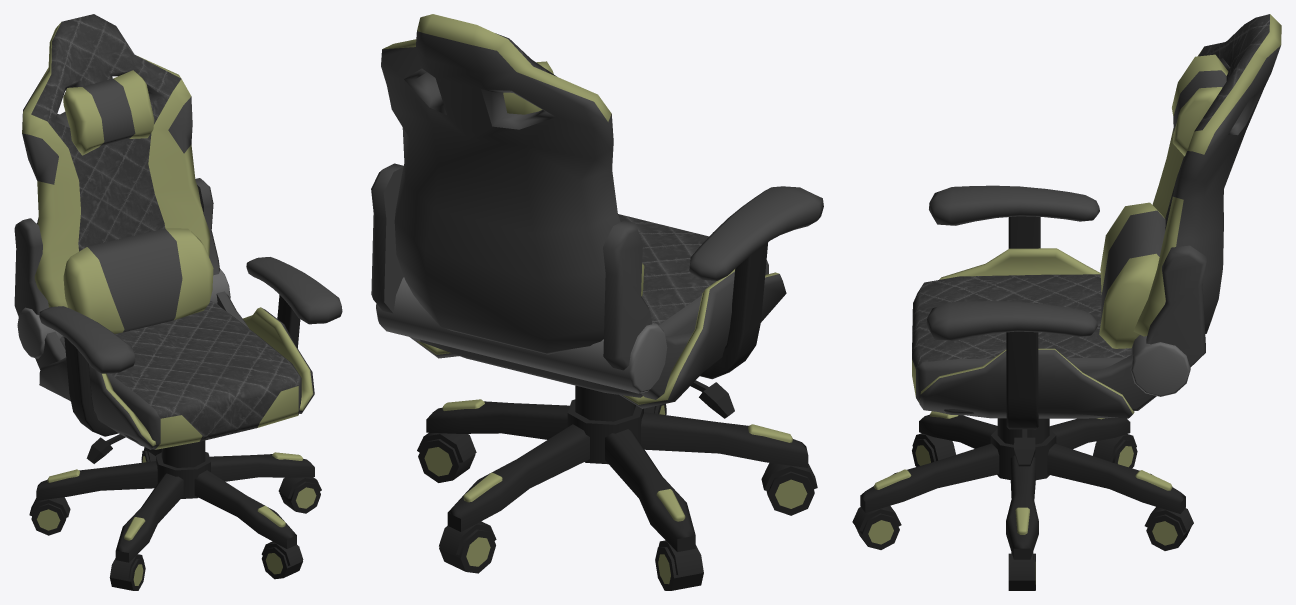
File: chair_032.fbx
3 views of the same model, side by side, from view 1: azimuth 30°, elevation 25°; view 2: azimuth 150°, elevation 25°; view 3: azimuth 270°, elevation 25° (orthographic). The views are drawn at different scales.
Visible parts, largest first — view 1: chair_032; view 2: chair_032; view 3: chair_032.
Part boxes in pixels (bbox=[...]): chair_032: bbox=[14, 14, 342, 590]; chair_032: bbox=[371, 14, 823, 590]; chair_032: bbox=[852, 14, 1281, 590].
Bounding box in the file's own units: 92.99 × 118 × 152.
